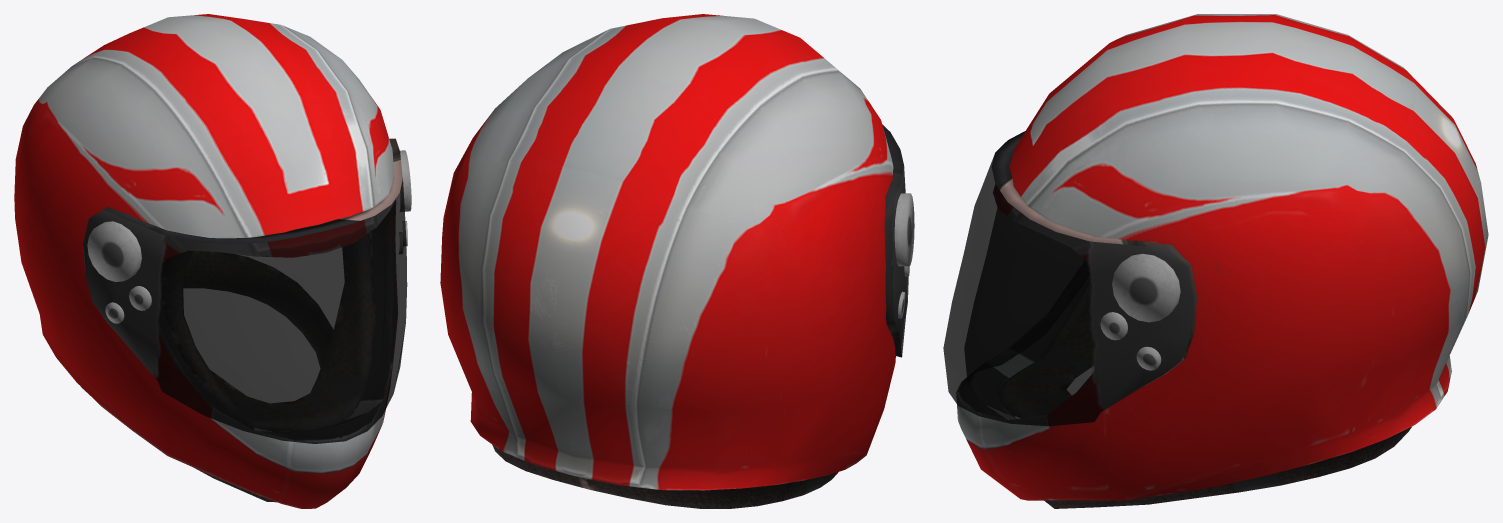
3 renders of one model, left to right at view 1: azimuth 30°, elevation 25°; view 2: azimuth 150°, elevation 25°; view 3: azimuth 270°, elevation 25°, orthographic. The views are drawn at different scales.
Parts seen in each view (by area): view 1: Wolf3D_Headwear; view 2: Wolf3D_Headwear; view 3: Wolf3D_Headwear.
Boxes of the visible parts, <box> form: Wolf3D_Headwear: <box>14,14,411,508</box>; Wolf3D_Headwear: <box>440,14,914,508</box>; Wolf3D_Headwear: <box>943,14,1488,508</box>.
Bounding box in the file's own units: 0.2429 × 0.2955 × 0.3137.
Materials: 1 (1 with a texture image).
